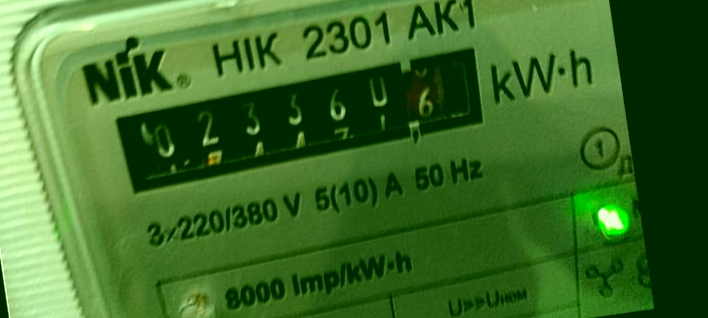0: (148, 119, 179, 164), (364, 73, 392, 113)
2: (191, 107, 222, 150)
3: (278, 90, 305, 131), (237, 99, 263, 141)
6: (320, 84, 351, 128), (413, 85, 439, 124)
screen: (89, 34, 503, 209)
